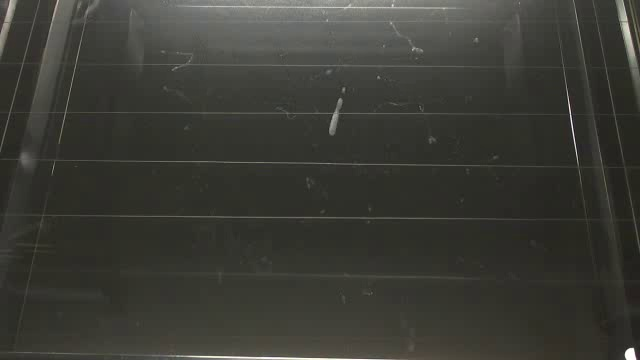Alfa: (327, 97, 344, 140)
